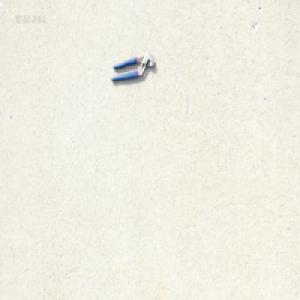Pliers: (110, 52, 155, 83)
